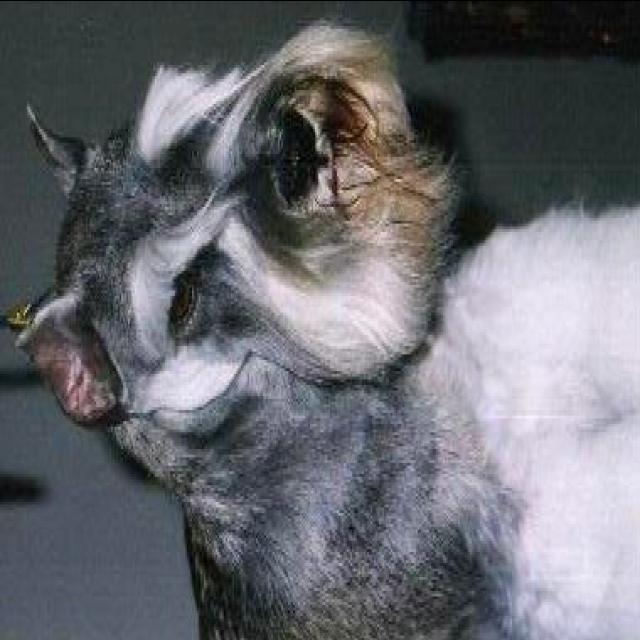standard_schnauzer: (2, 14, 638, 640)
